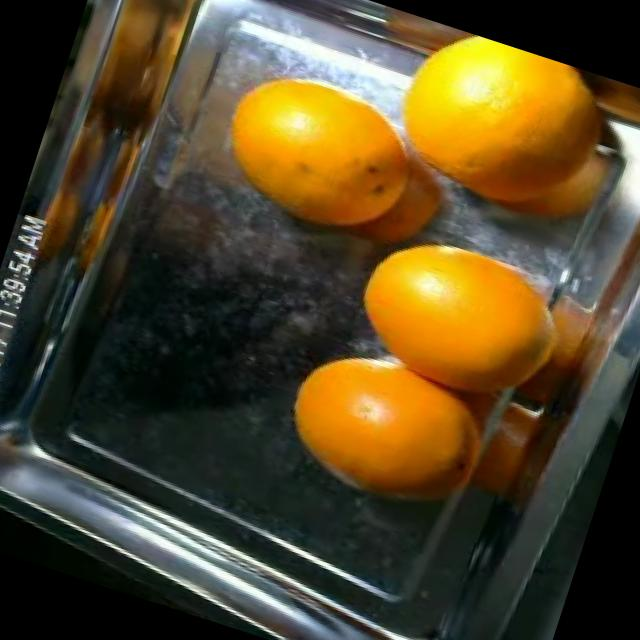Fruit: (326, 216, 560, 414), (253, 322, 457, 521), (543, 62, 640, 175)
